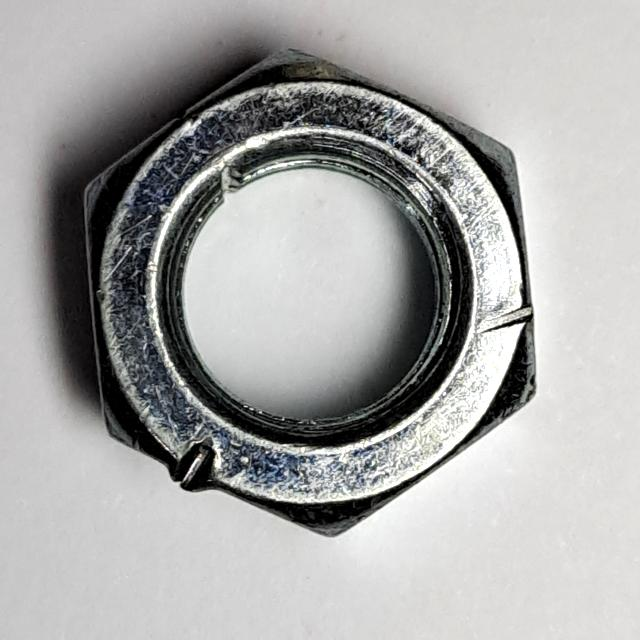Scratches: (77, 30, 552, 547)
